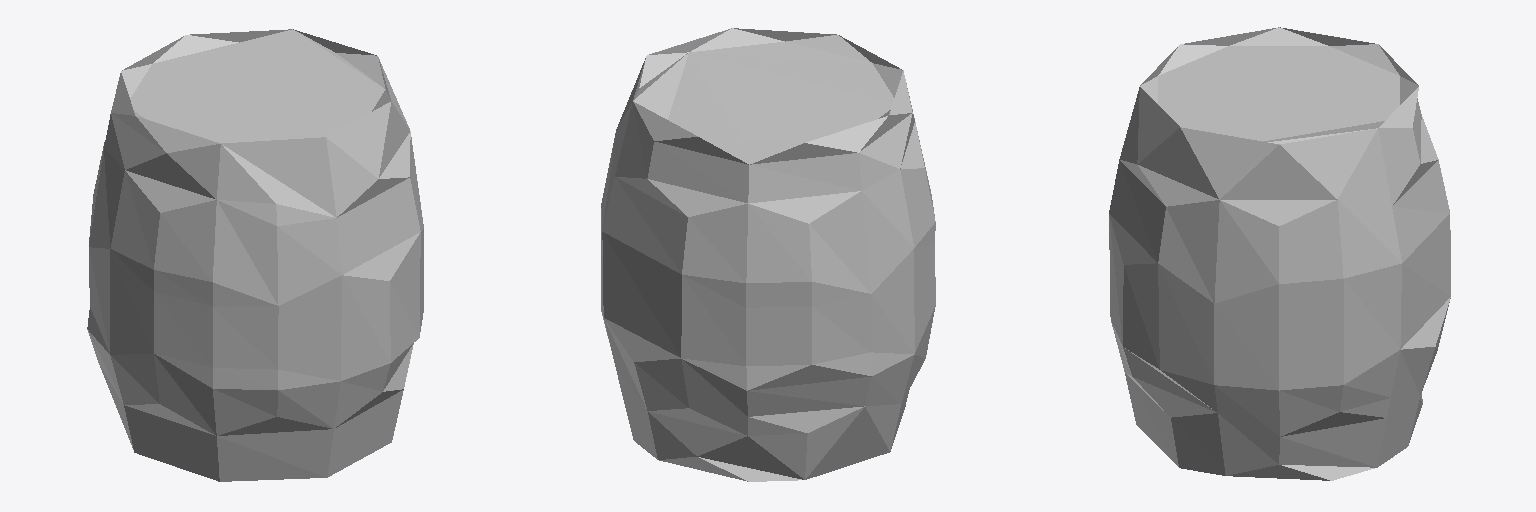
Rendered from Barrel_LOD2.obj.
The picture shows the model from 3 angles: view 1: azimuth 30°, elevation 25°; view 2: azimuth 150°, elevation 25°; view 3: azimuth 270°, elevation 25°; orthographic projection.
Parts seen in each view (by area): view 1: Barrel; view 2: Barrel; view 3: Barrel.
Boxes of the visible parts, <box> form: Barrel: <box>87,29,423,481</box>; Barrel: <box>601,28,935,481</box>; Barrel: <box>1109,27,1450,480</box>.
Size of the model in its own units: 0.8267 by 0.9235 by 0.8379.